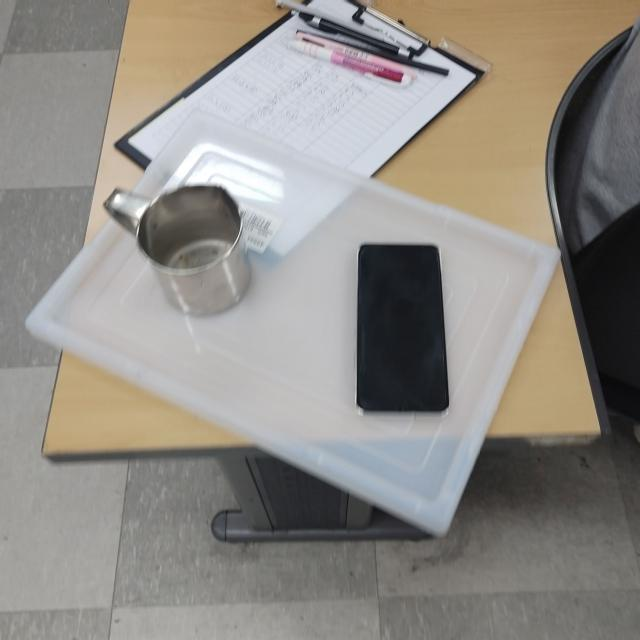cup: (104, 183, 254, 315)
phone: (355, 242, 449, 418)
